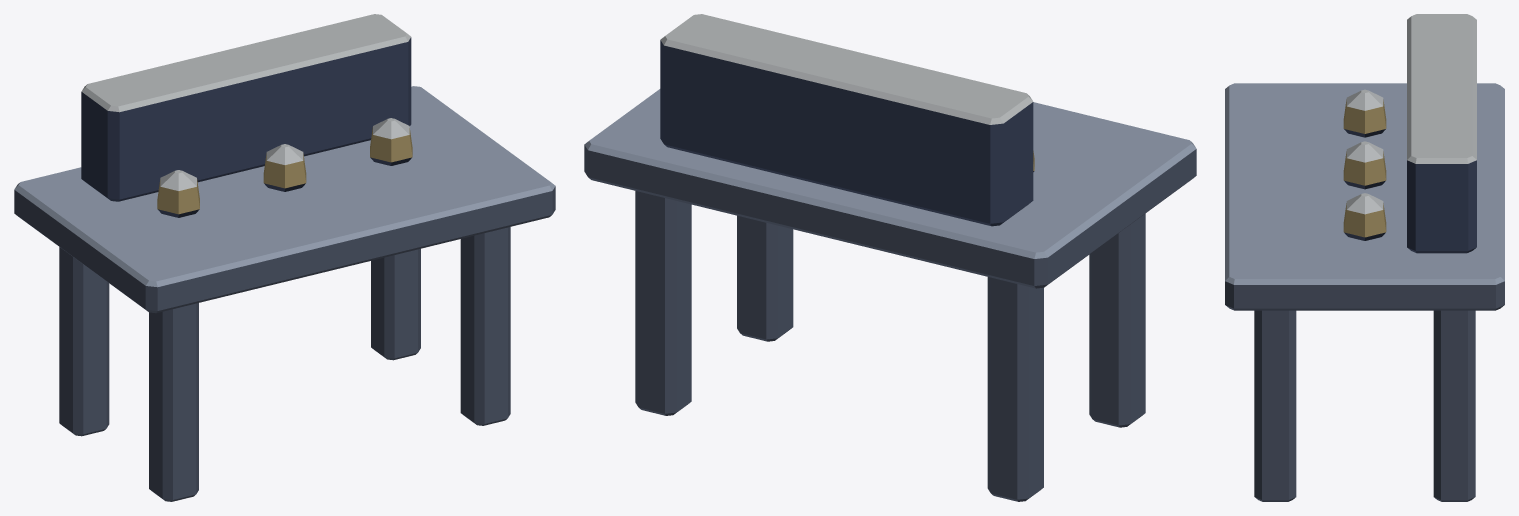
The model's file is console.glb.
3 views of the same model, side by side, from view 1: azimuth 30°, elevation 25°; view 2: azimuth 150°, elevation 25°; view 3: azimuth 270°, elevation 25° (orthographic). The views are drawn at different scales.
Parts seen in each view (by area): view 1: console__body; view 2: console__body; view 3: console__body.
Part boxes in pixels (x1,y1,x2,y2): console__body: [14, 14, 555, 501]; console__body: [584, 14, 1196, 501]; console__body: [1225, 14, 1504, 501].
Size of the model in its own units: 1.35 by 1.05 by 0.8.
